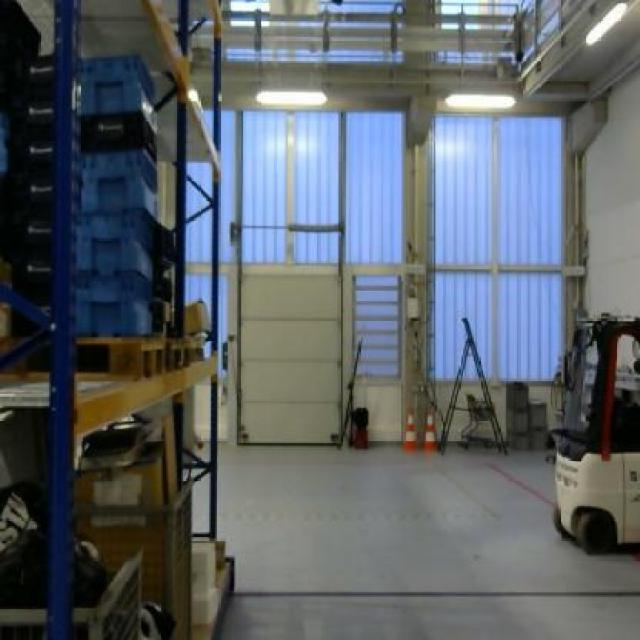box: (185, 298, 210, 336)
